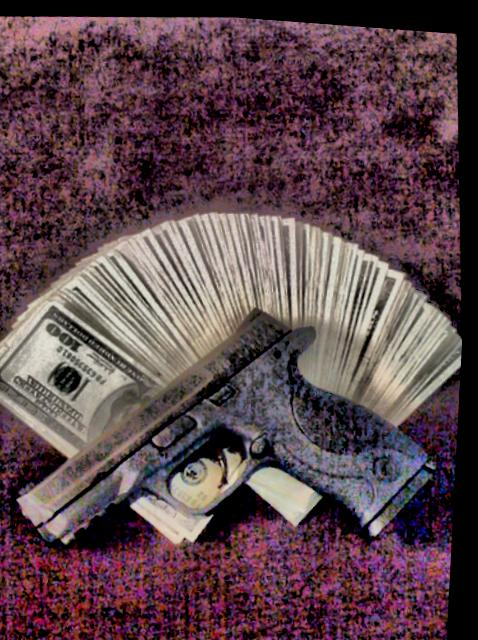pistol: (6, 275, 445, 580)
